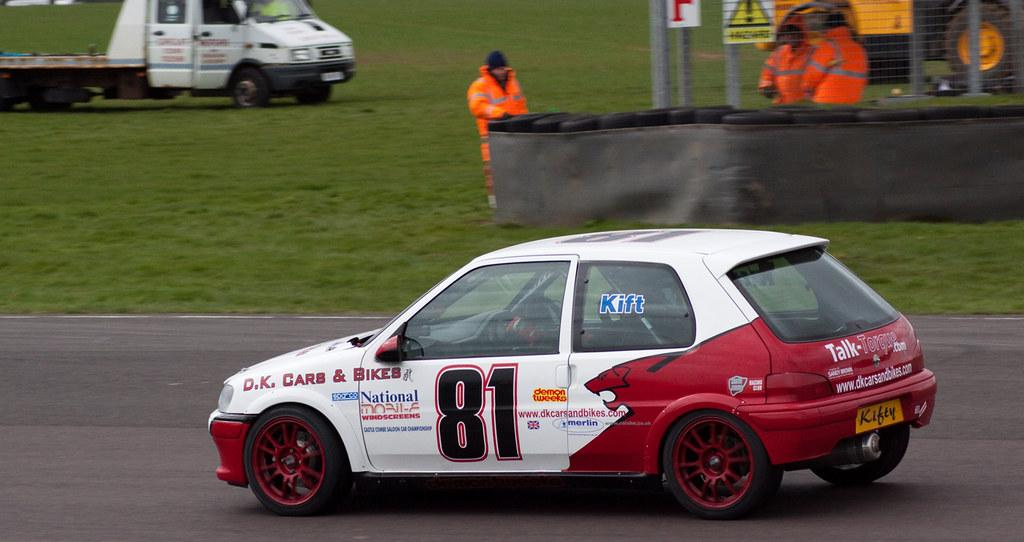car: (208, 227, 938, 521)
